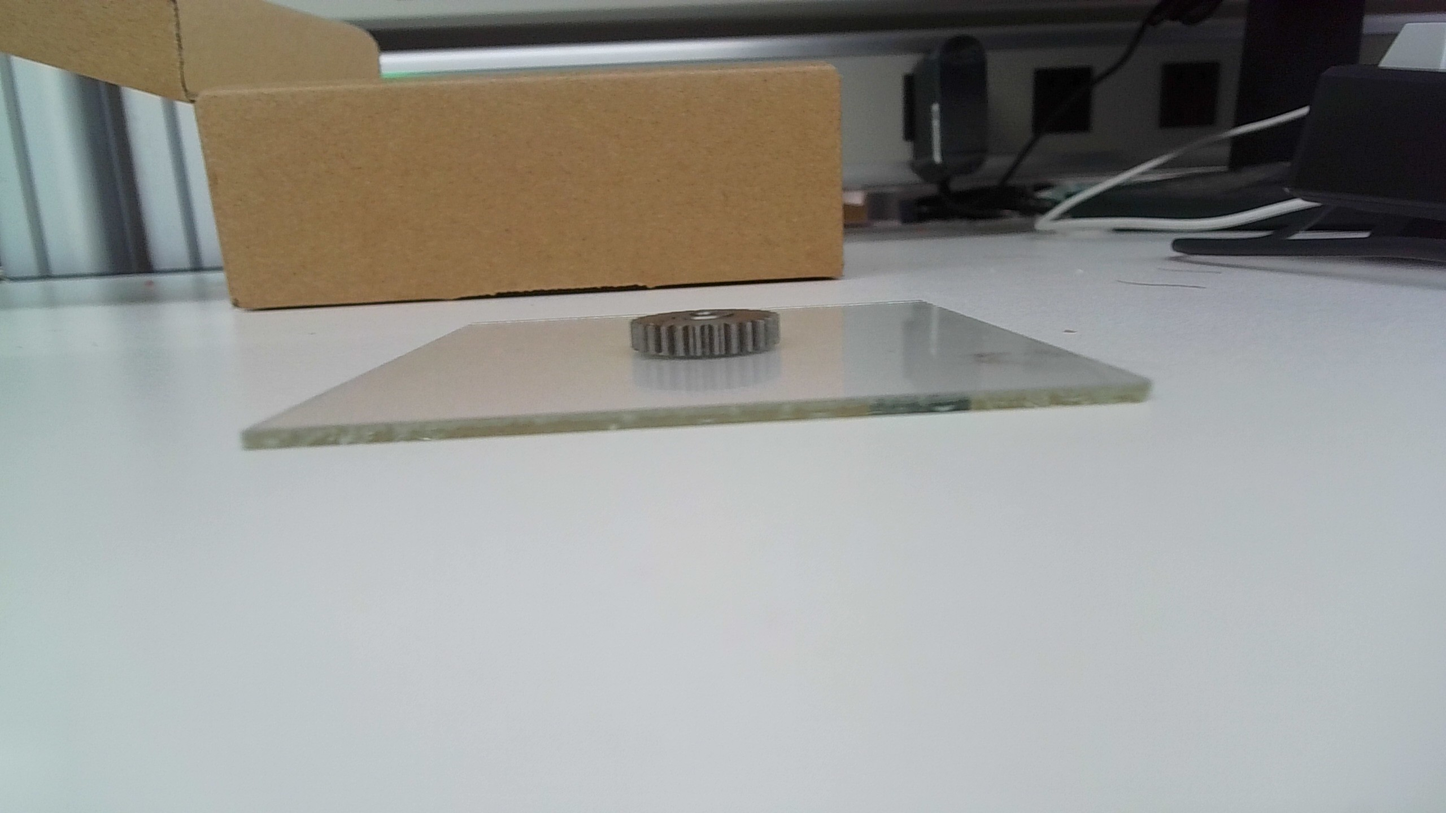gear: (628, 308, 782, 360)
